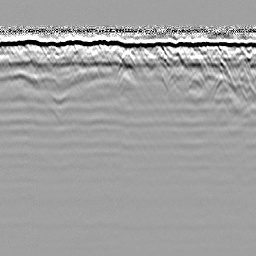cavity: (119, 49, 137, 67)
